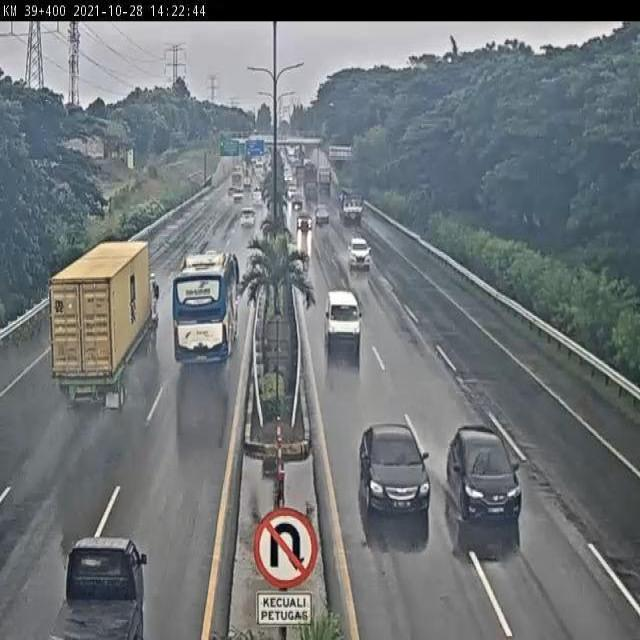big bus: (167, 246, 240, 370)
big truck: (44, 235, 160, 412), (337, 188, 366, 227)
car: (53, 518, 150, 640), (350, 409, 438, 528), (448, 421, 527, 536), (320, 285, 363, 355), (347, 236, 372, 269), (238, 205, 255, 231), (297, 210, 313, 234), (314, 206, 330, 226), (251, 188, 267, 207), (289, 192, 304, 212)
